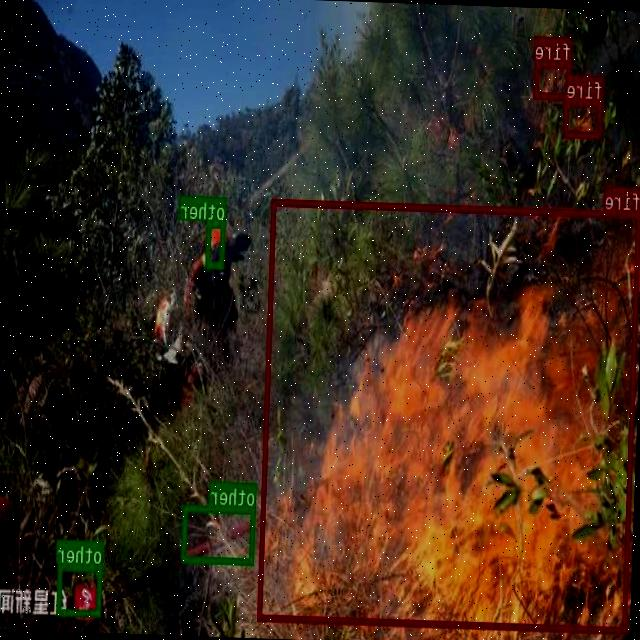fire: (258, 197, 640, 633), (564, 99, 603, 138), (534, 58, 572, 98)
